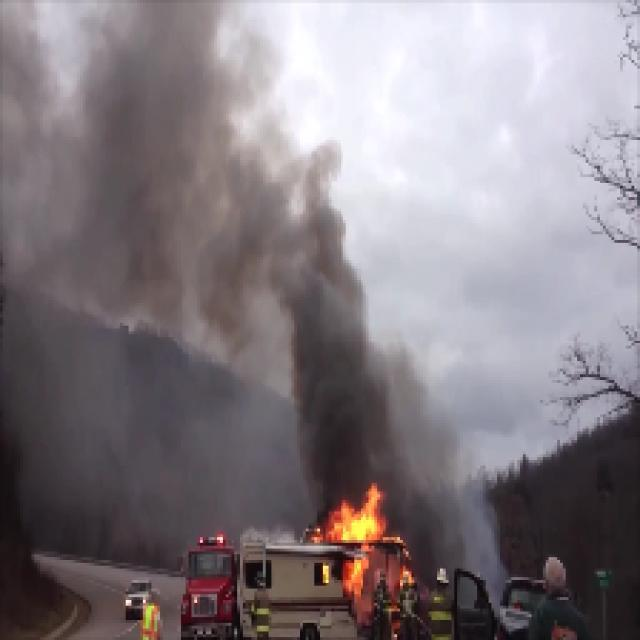Fire: (327, 486, 388, 544)
Smoke: (73, 123, 317, 287), (294, 308, 388, 482)
